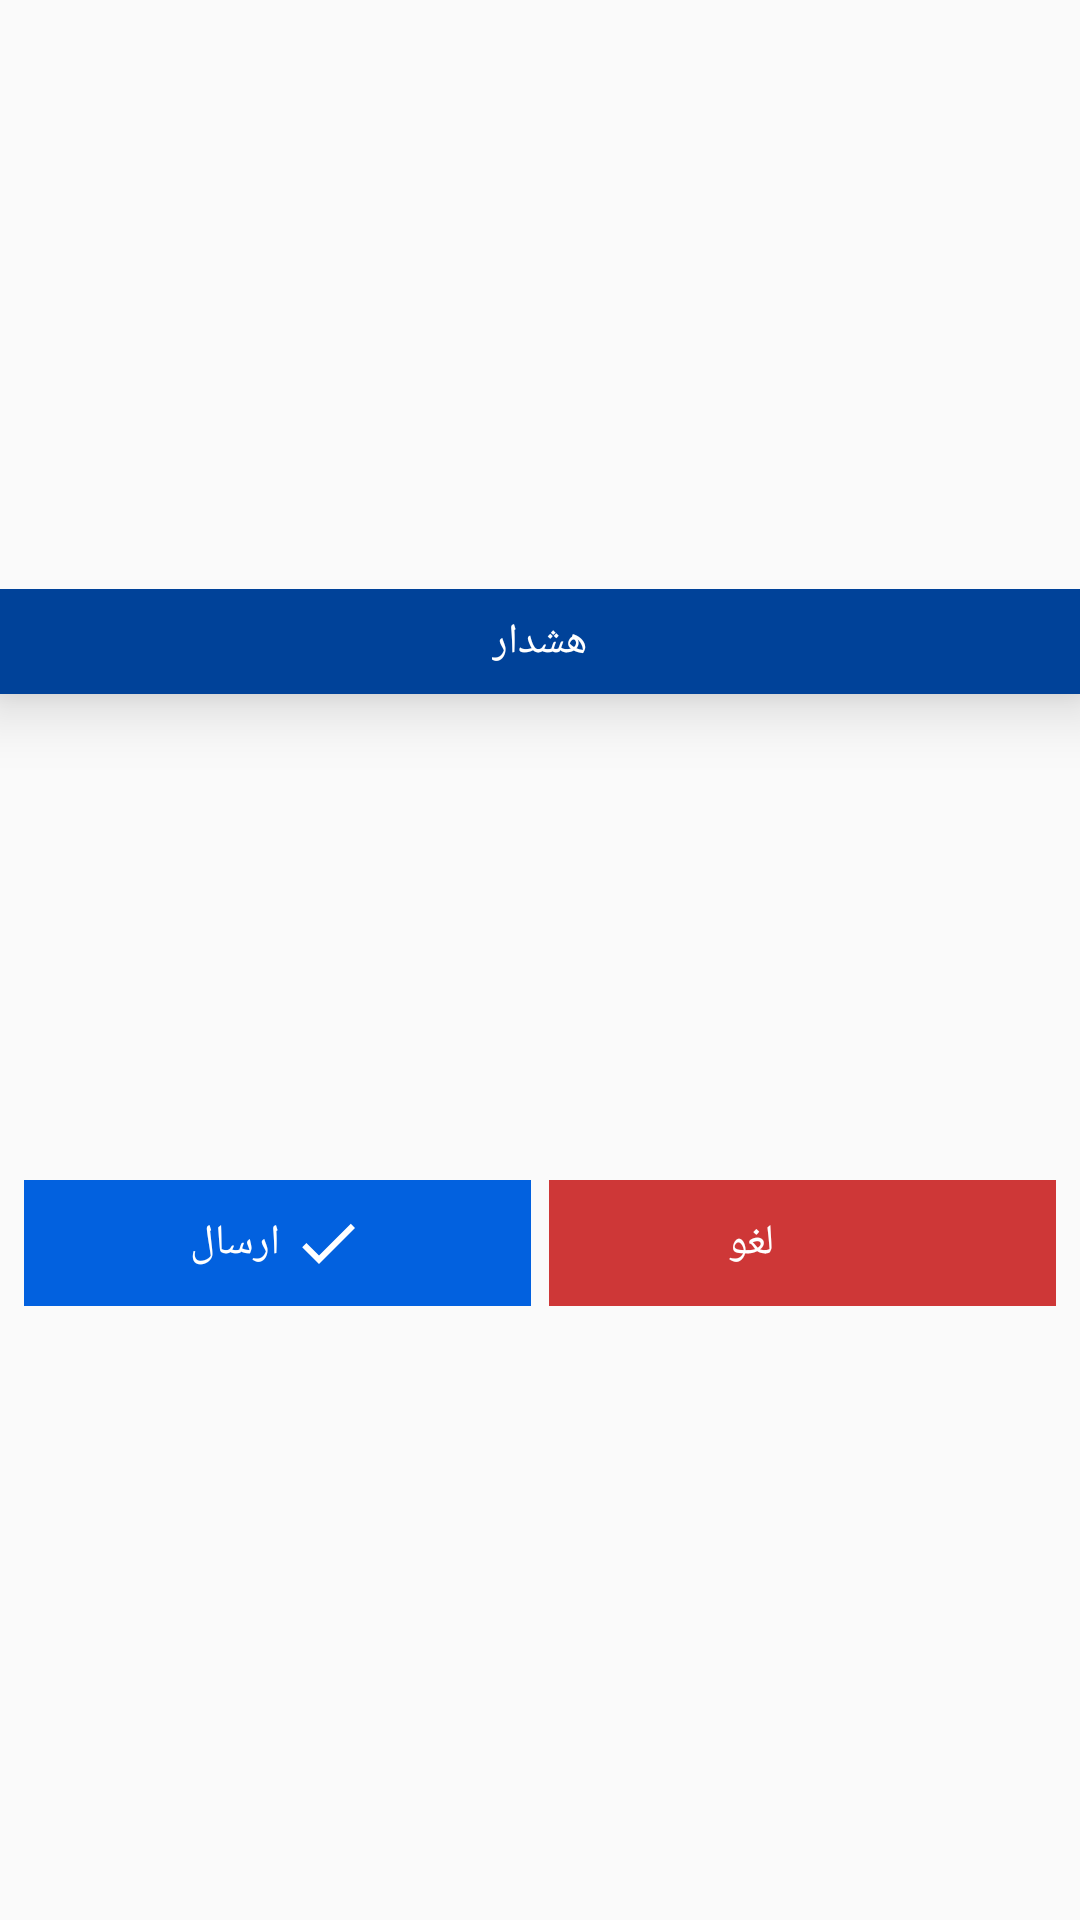

Screen size 1080 × 1920. Icon name, then its center in pixels as (x=x, y=y):
done: (x=328, y=1244)
